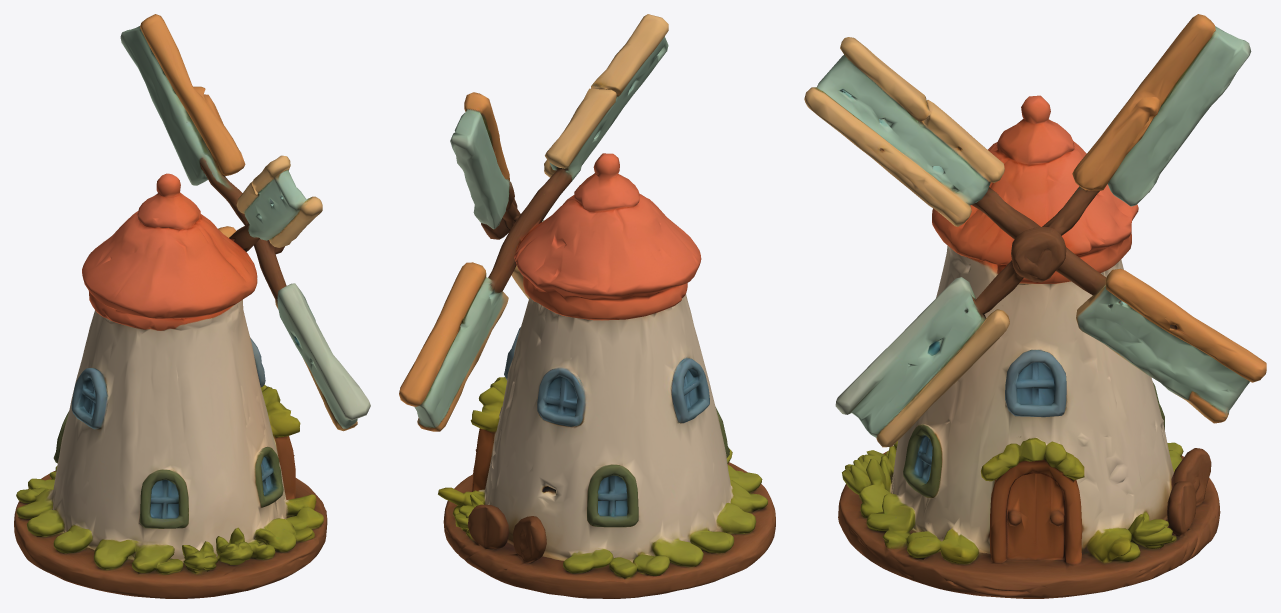
File: windmill.glb
The picture shows the model from 3 angles, left to right: view 1: azimuth 30°, elevation 25°; view 2: azimuth 150°, elevation 25°; view 3: azimuth 270°, elevation 25°; orthographic projection. The views are drawn at different scales.
Visible parts, largest first — view 1: tripo_node_78ac8988-6ecd-4306-82fa-7c9641838cb6; view 2: tripo_node_78ac8988-6ecd-4306-82fa-7c9641838cb6; view 3: tripo_node_78ac8988-6ecd-4306-82fa-7c9641838cb6.
Boxes of the visible parts, x1,y1,x2,y2 form: tripo_node_78ac8988-6ecd-4306-82fa-7c9641838cb6: [14, 14, 370, 598]; tripo_node_78ac8988-6ecd-4306-82fa-7c9641838cb6: [399, 14, 775, 598]; tripo_node_78ac8988-6ecd-4306-82fa-7c9641838cb6: [804, 14, 1266, 598].
Bounding box in the file's own units: 0.6407 × 1 × 0.7791.
1 material, 1 textured.
